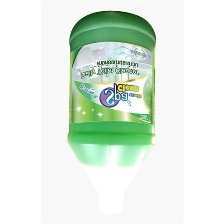cleaning_solution: (65, 7, 158, 216)
